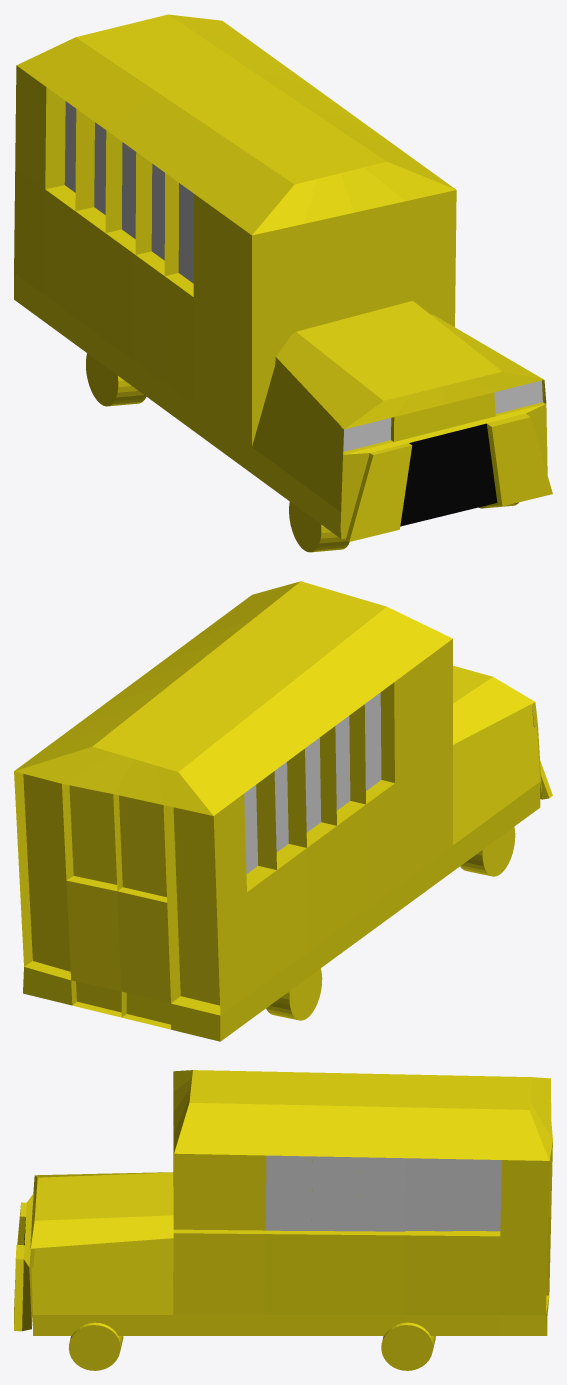
Rendered from untitle1.0.fbx.
3 renders of one model, top to bottom at view 1: azimuth 30°, elevation 25°; view 2: azimuth 150°, elevation 25°; view 3: azimuth 270°, elevation 25°, orthographic. The views are drawn at different scales.
Parts seen in each view (by area): view 1: CAR, WHEEL 4.001, WHEEL 4.003; view 2: CAR, WHEEL 4.001, WHEEL 4.003; view 3: CAR, WHEEL 4, WHEEL 4.002.
Boxes of the visible parts, x1,y1,x2,y2 form: CAR: [14, 14, 552, 541]; WHEEL 4.001: [86, 353, 146, 406]; WHEEL 4.003: [289, 502, 349, 552]; CAR: [14, 581, 552, 1041]; WHEEL 4.001: [266, 968, 322, 1020]; WHEEL 4.003: [460, 827, 515, 876]; CAR: [14, 1070, 552, 1335]; WHEEL 4: [381, 1322, 435, 1370]; WHEEL 4.002: [68, 1322, 123, 1370].
Bounding box in the file's own units: 210 × 295 × 588.
